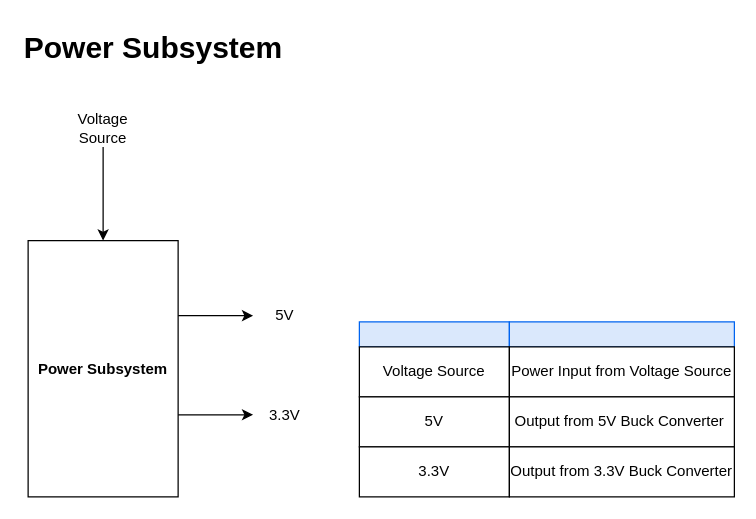
Image size: 756x519. Some labels were removed from this diagram. Each missing label, with the centre of its shape:
"Input/Output" goes at point 433,334.
"Interface" goes at point 621,334.
